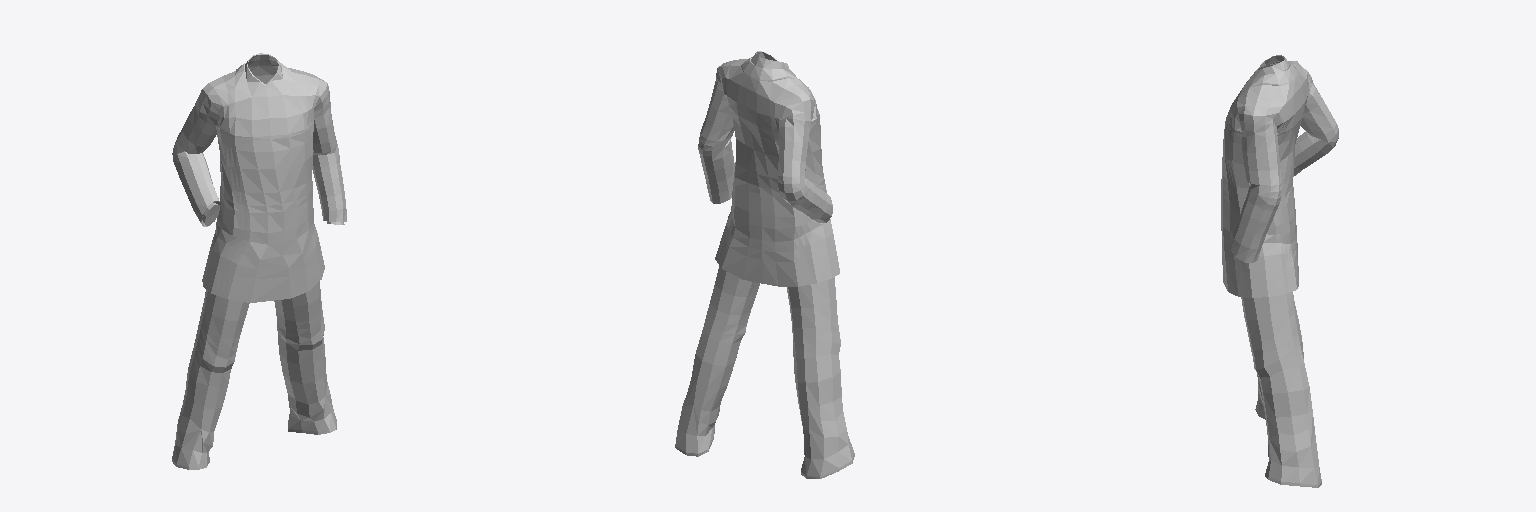
The model's file is male3.obj.
3 renders of one model, left to right at view 1: azimuth 30°, elevation 25°; view 2: azimuth 150°, elevation 25°; view 3: azimuth 270°, elevation 25°, orthographic.
Parts seen in each view (by area): view 1: mesh1.002_mesh1-geometry_male-02-1noCullingID_male-02-1noCullin; view 2: mesh1.002_mesh1-geometry_male-02-1noCullingID_male-02-1noCullin; view 3: mesh1.002_mesh1-geometry_male-02-1noCullingID_male-02-1noCullin.
Boxes of the visible parts, box(x1,y1,x2,y2) form: mesh1.002_mesh1-geometry_male-02-1noCullingID_male-02-1noCullin: box(172, 53, 346, 469); mesh1.002_mesh1-geometry_male-02-1noCullingID_male-02-1noCullin: box(675, 51, 854, 478); mesh1.002_mesh1-geometry_male-02-1noCullingID_male-02-1noCullin: box(1221, 55, 1338, 487).
Size of the model in its own units: 69 by 160 by 42.94.